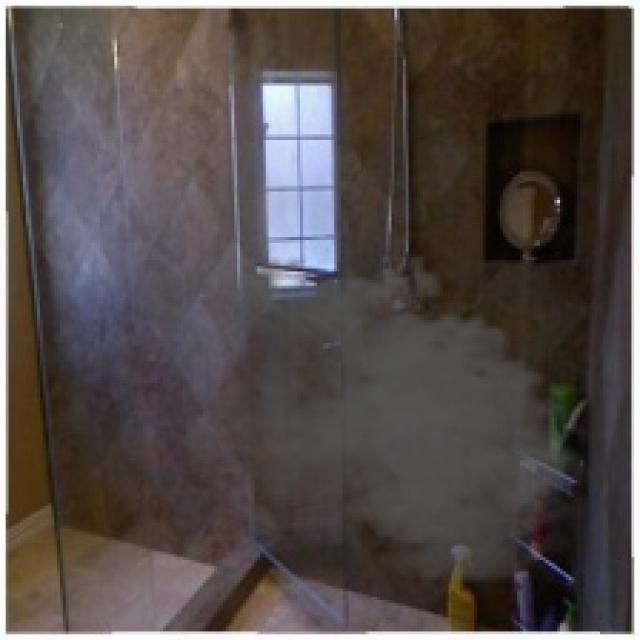smoke: (185, 246, 606, 591)
